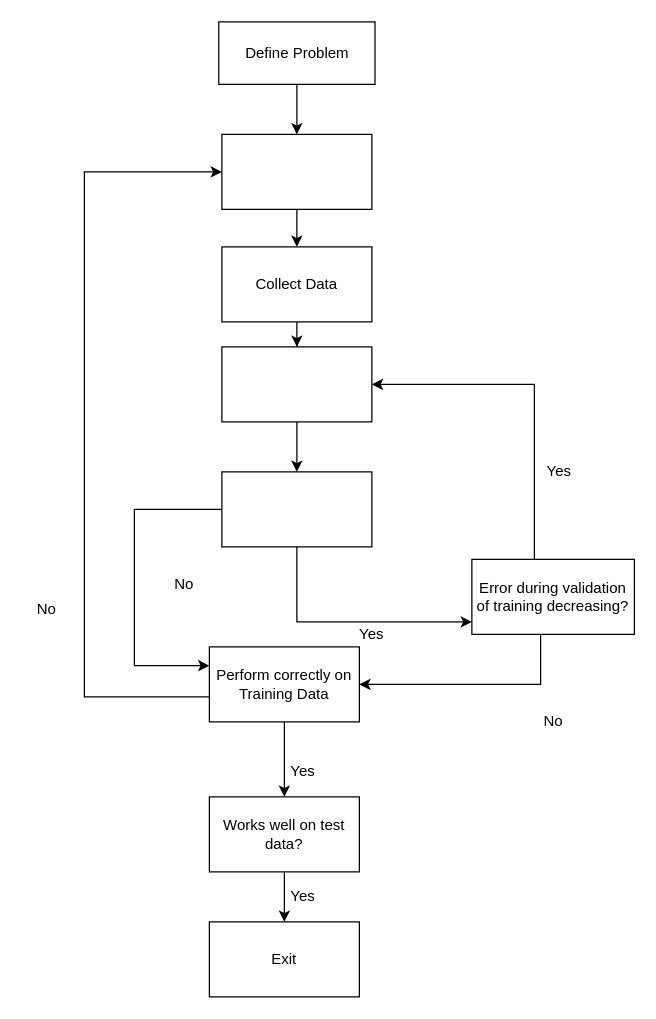
Image size: 656x1019. Some labels were removed from this diagram. The shapes that lost their labels are listed below. From the top down, each one's centre as x and y in pixels, then its label:
At (296,171): "Create neural network design".
At (296,384): "Train data for applied conditions/goals".
At (296,509): "Error decreasing?".
